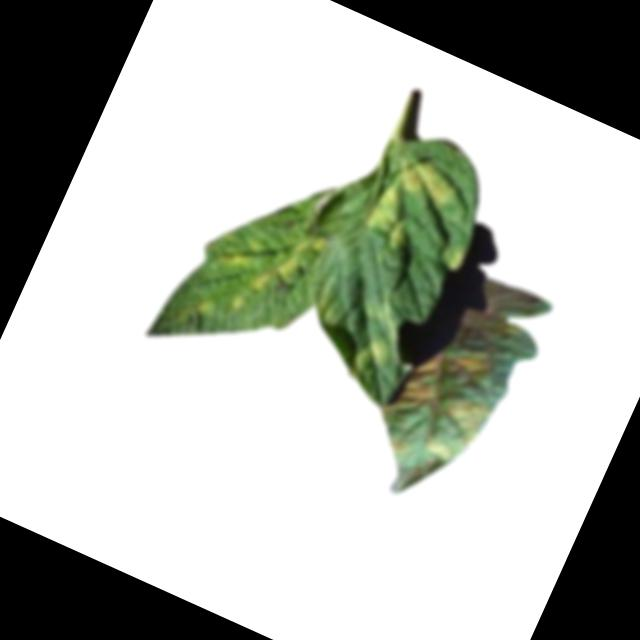Leaf_Mold: (364, 325, 515, 486), (204, 203, 330, 333), (358, 146, 460, 265), (348, 335, 400, 386), (440, 240, 472, 273)
